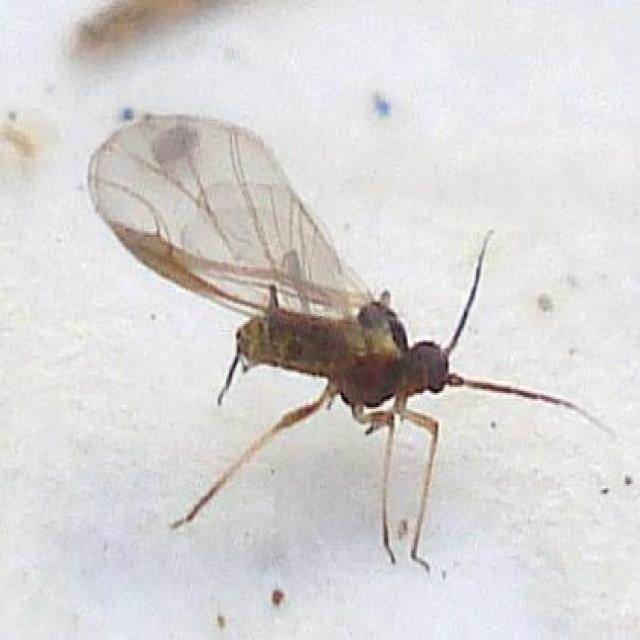Aphids: (54, 78, 621, 609)
